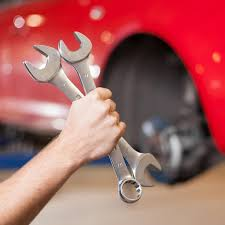Wrench: (109, 138, 160, 202), (23, 46, 83, 100), (59, 32, 95, 92), (68, 32, 94, 90), (110, 138, 134, 189)
